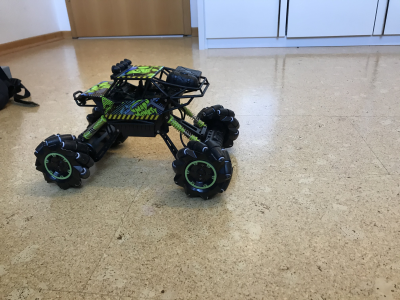remote control car: (32, 57, 243, 203)
